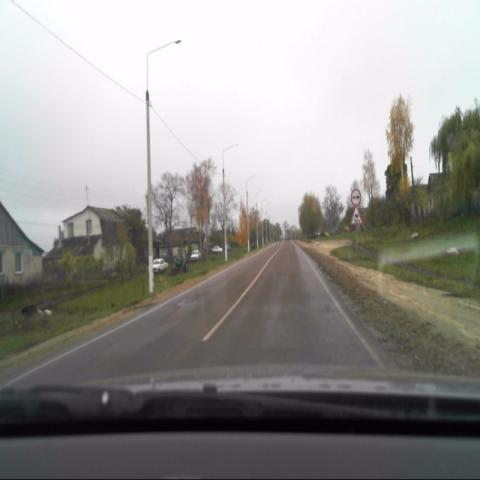1_15: (350, 207, 363, 226)
